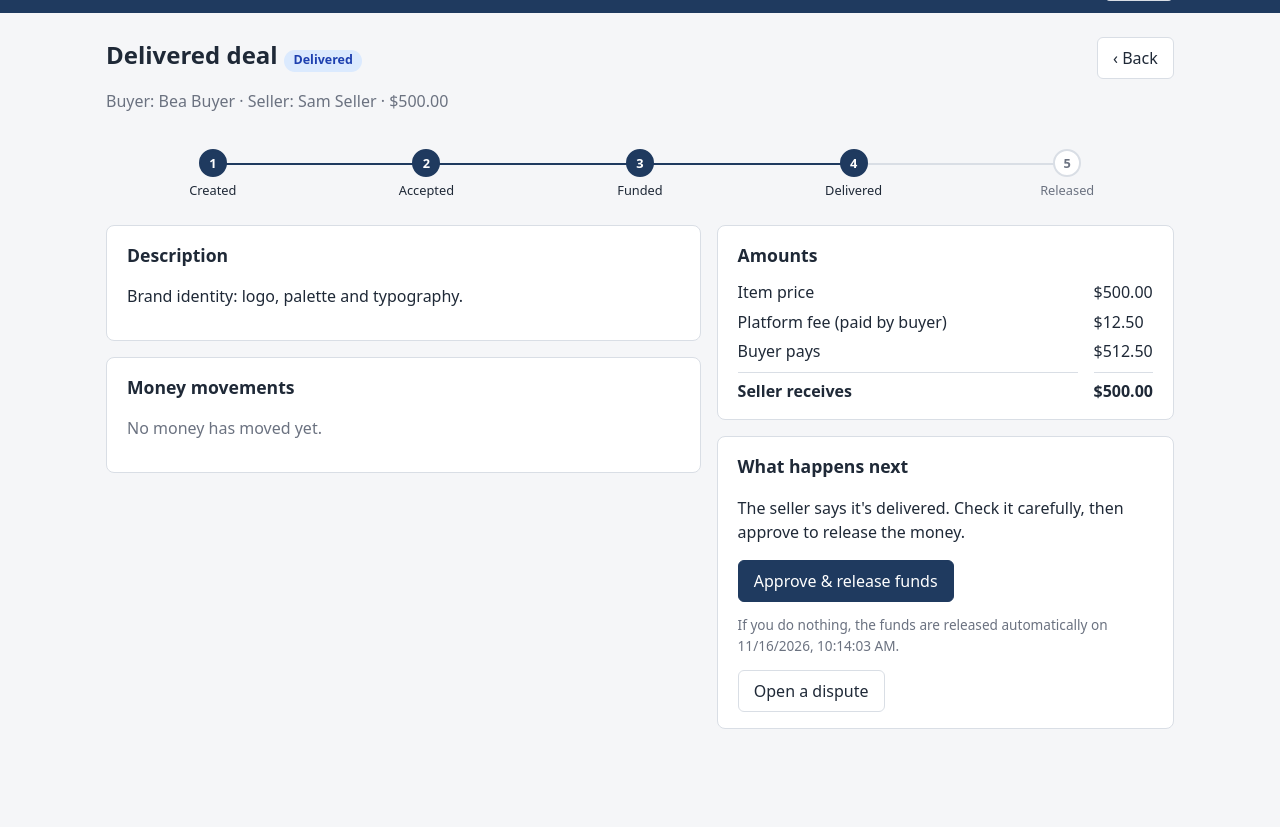
it: transaction detail: the right buttons for the right person at the right time › opening a dispute sends the reason and goes to the dispute page
Click the button "Open a dispute": (811, 691) top-left (738, 670), bottom-right (885, 712)
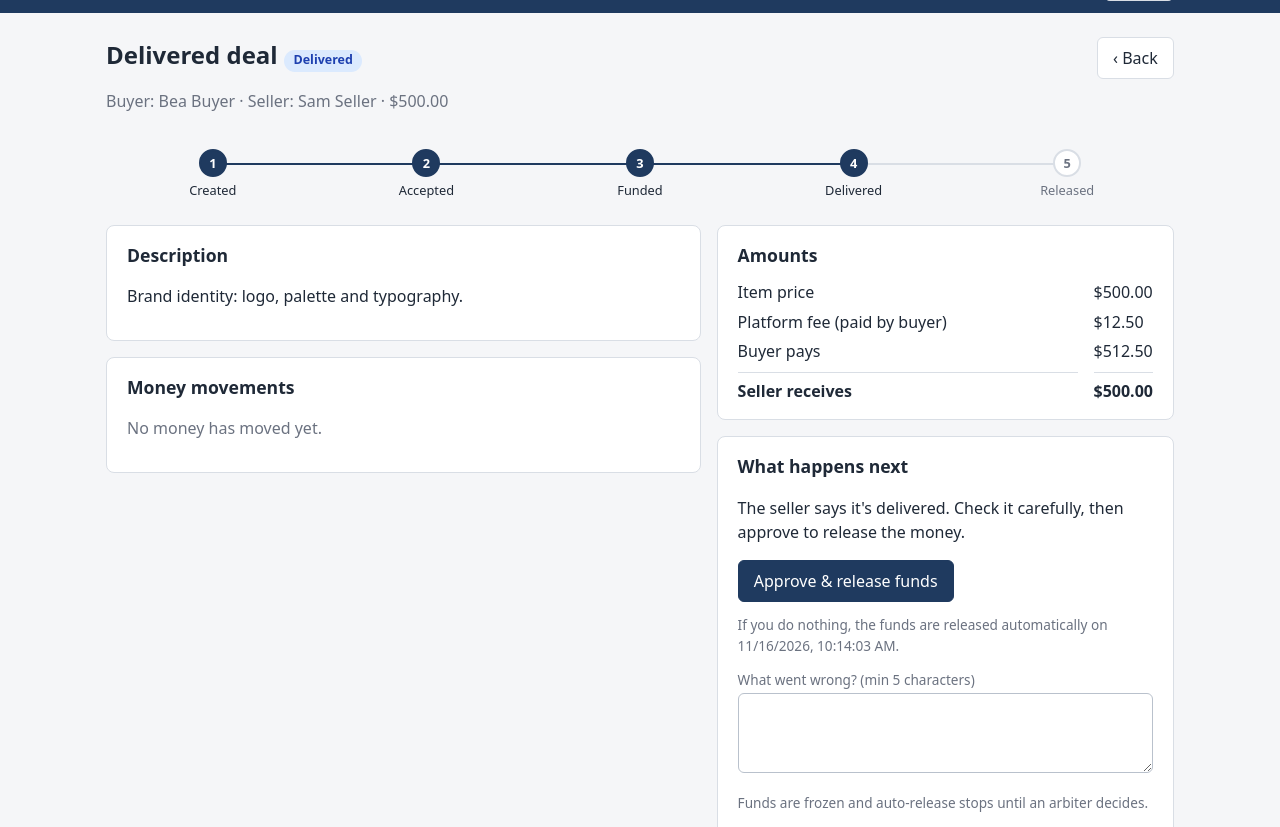
In the text box labelled "What went wrong? (min 5 characters)": (945, 733) top-left (738, 693), bottom-right (1153, 773), type "Not what we agreed"
(page scrolled)
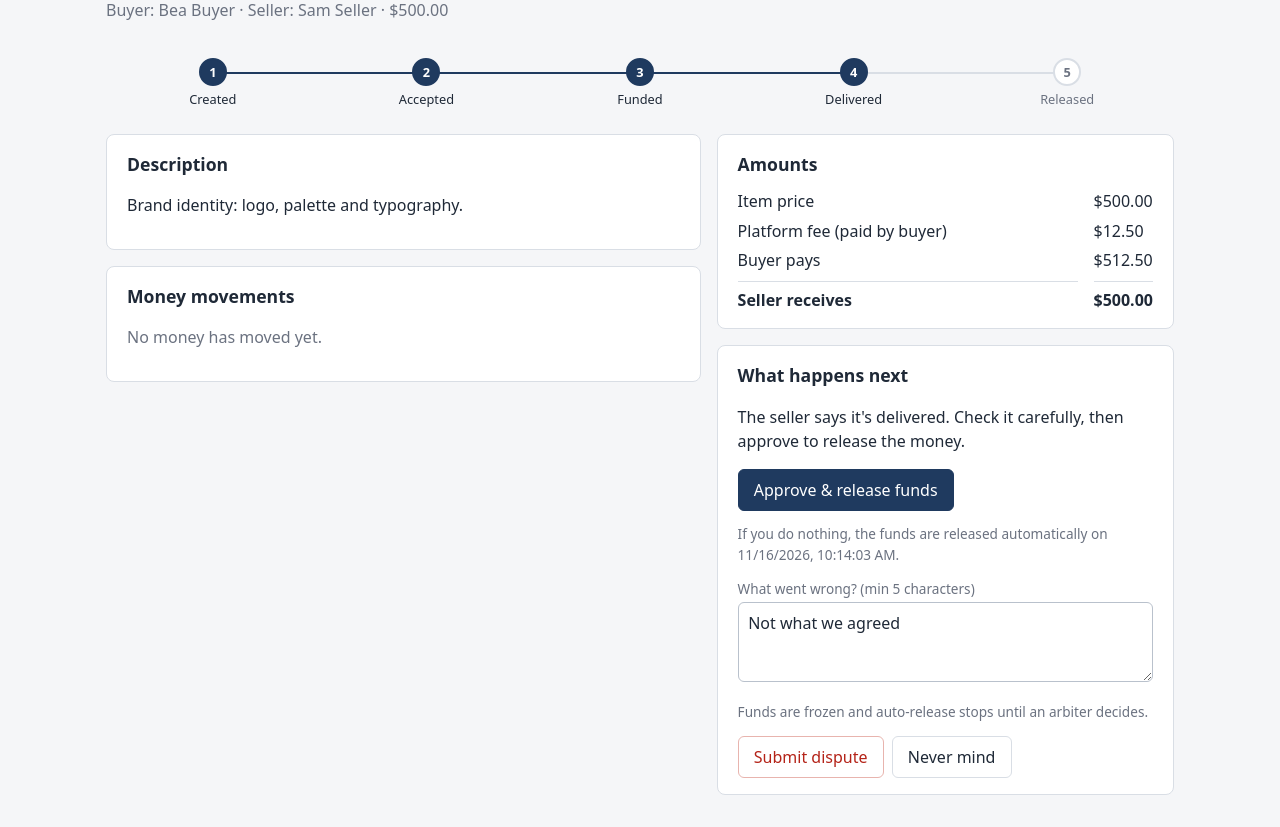
Click the button "Submit dispute": (811, 757) top-left (738, 736), bottom-right (884, 778)
(page scrolled)
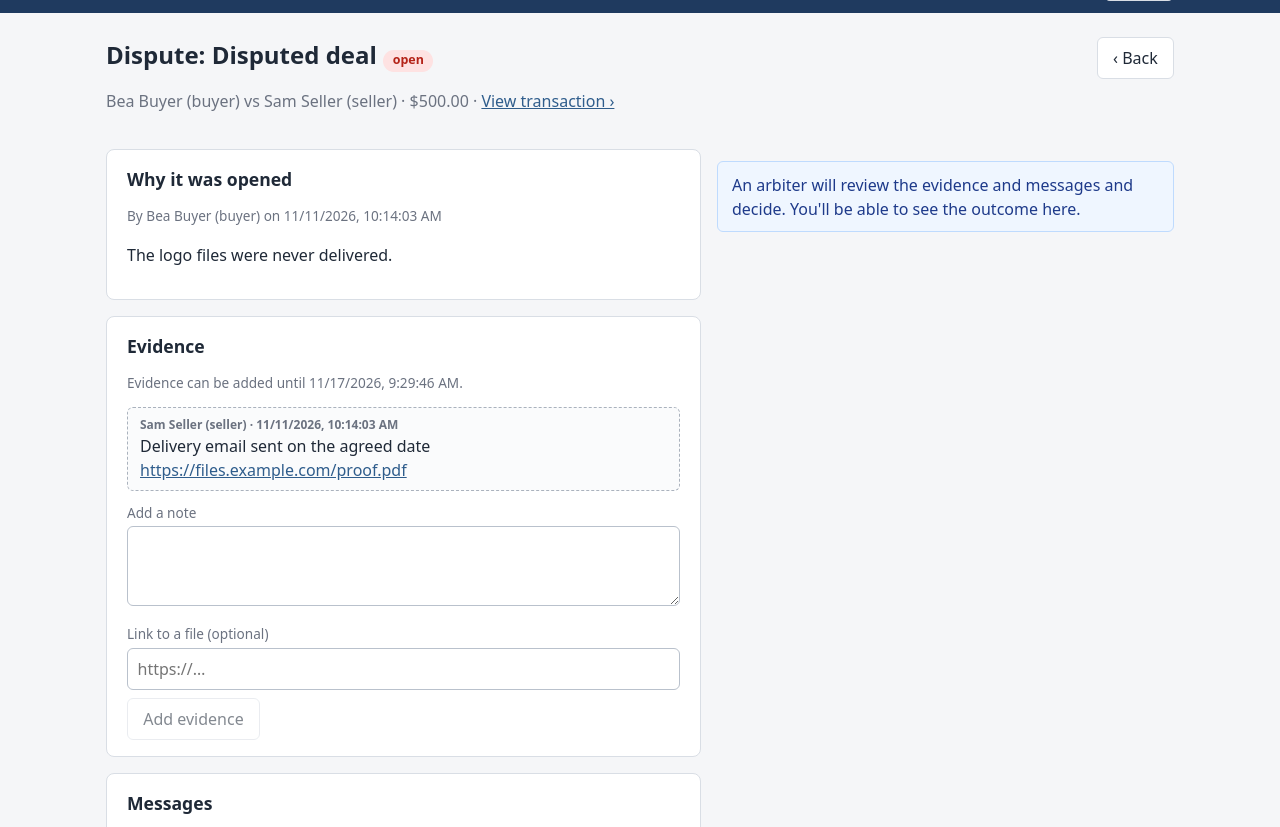
Expected: the heading "Why it was opened" is shown, top-left (127, 167), bottom-right (292, 191)
